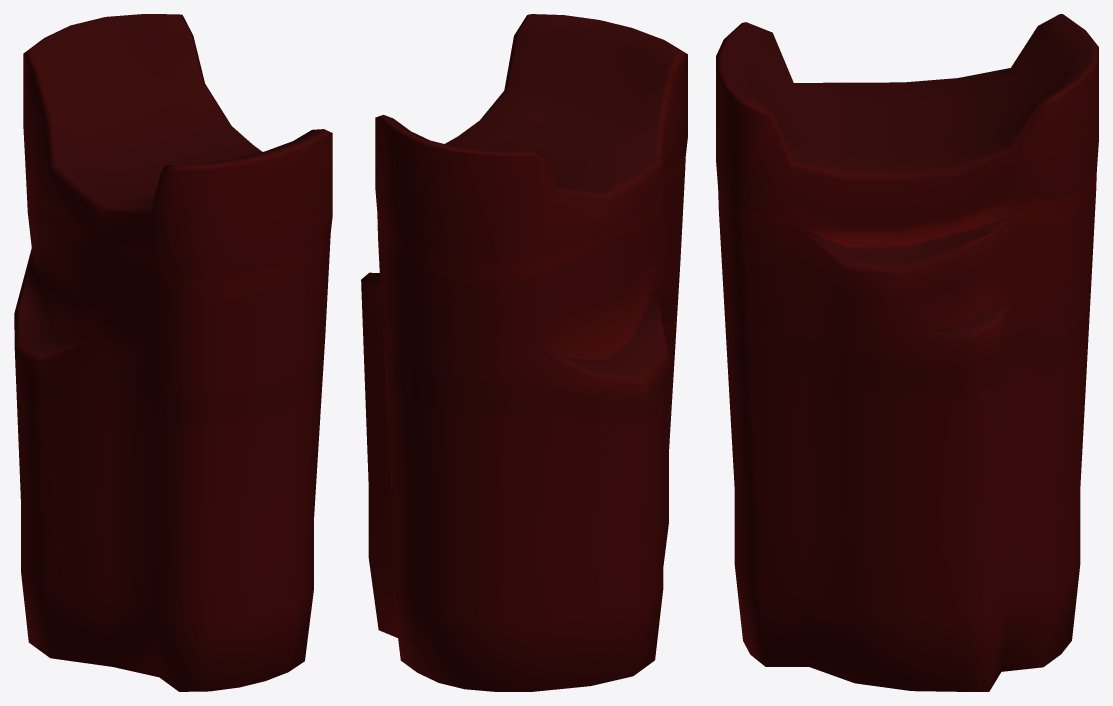
The model's file is geology-landforms-alienpillar_v3.fbx.
3 views of the same model, side by side, from view 1: azimuth 30°, elevation 25°; view 2: azimuth 150°, elevation 25°; view 3: azimuth 270°, elevation 25° (orthographic). The views are drawn at different scales.
Parts seen in each view (by area): view 1: AlienPillar_v3; view 2: AlienPillar_v3; view 3: AlienPillar_v3.
Boxes of the visible parts, left/top/right/bottom form: AlienPillar_v3: left=14, top=14, right=332, bottom=691; AlienPillar_v3: left=361, top=14, right=687, bottom=691; AlienPillar_v3: left=716, top=14, right=1098, bottom=691.
Size of the model in its own units: 20.45 by 40.71 by 24.27.
